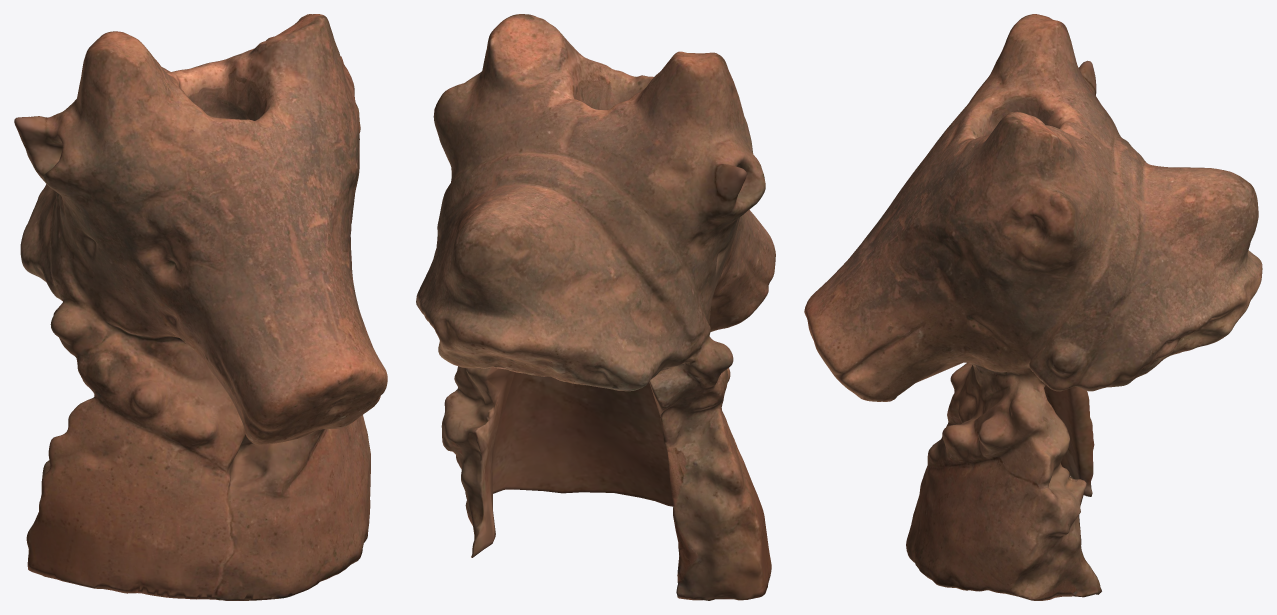
The model's file is MysonMuseum_Bothannandin2_final.glb.
The picture shows the model from 3 angles, left to right: view 1: azimuth 30°, elevation 25°; view 2: azimuth 150°, elevation 25°; view 3: azimuth 270°, elevation 25°; orthographic projection. The views are drawn at different scales.
Size of the model in its own units: 0.2609 by 0.4079 by 0.3467.
1 material, 1 textured.
